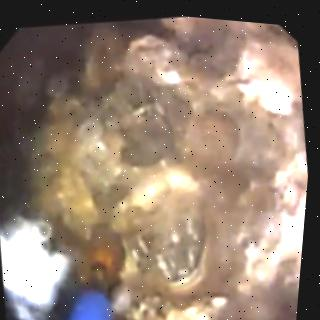fiber: (75, 290, 116, 320)
stone: (26, 14, 311, 320)
